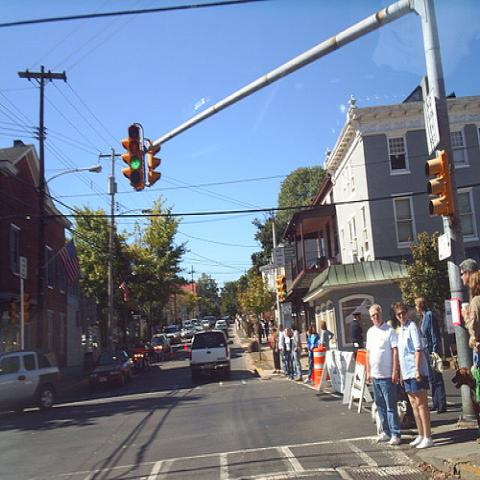car: (0, 346, 59, 415), (190, 330, 234, 380), (88, 351, 134, 388), (133, 344, 158, 362), (164, 324, 182, 344), (181, 325, 196, 338), (214, 320, 228, 329), (201, 319, 212, 330)
